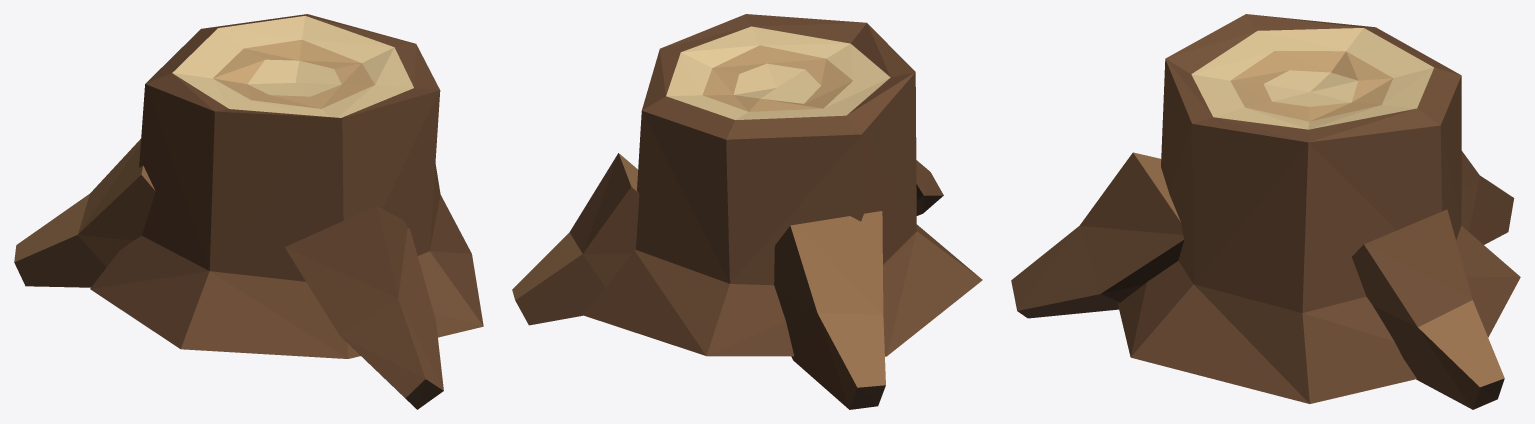
File: SM_Stump_A.fbx
The picture shows the model from 3 angles, left to right: view 1: azimuth 30°, elevation 25°; view 2: azimuth 150°, elevation 25°; view 3: azimuth 270°, elevation 25°; orthographic projection. The views are drawn at different scales.
Visible parts, largest first — view 1: SM_Stump_A; view 2: SM_Stump_A; view 3: SM_Stump_A.
Boxes of the visible parts, bbox=[...] form: SM_Stump_A: bbox=[14, 14, 483, 409]; SM_Stump_A: bbox=[512, 14, 982, 409]; SM_Stump_A: bbox=[1011, 14, 1520, 409].
Bounding box in the file's own units: 1.02 × 0.6233 × 1.13.
